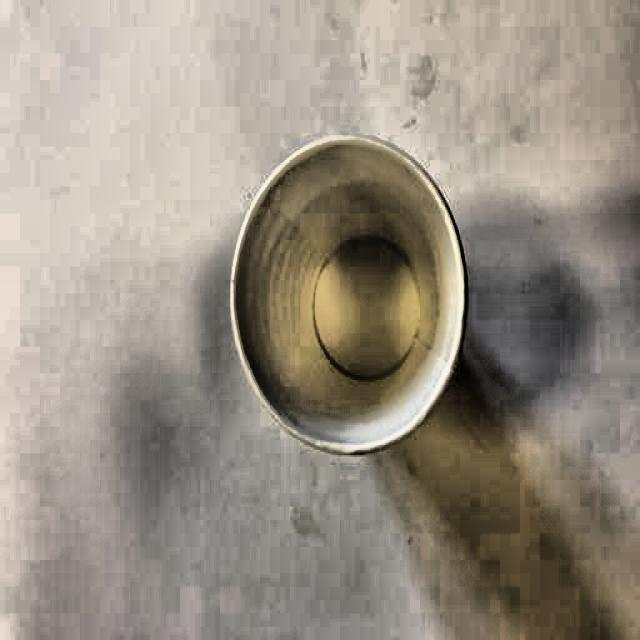trash: (236, 118, 462, 452)
